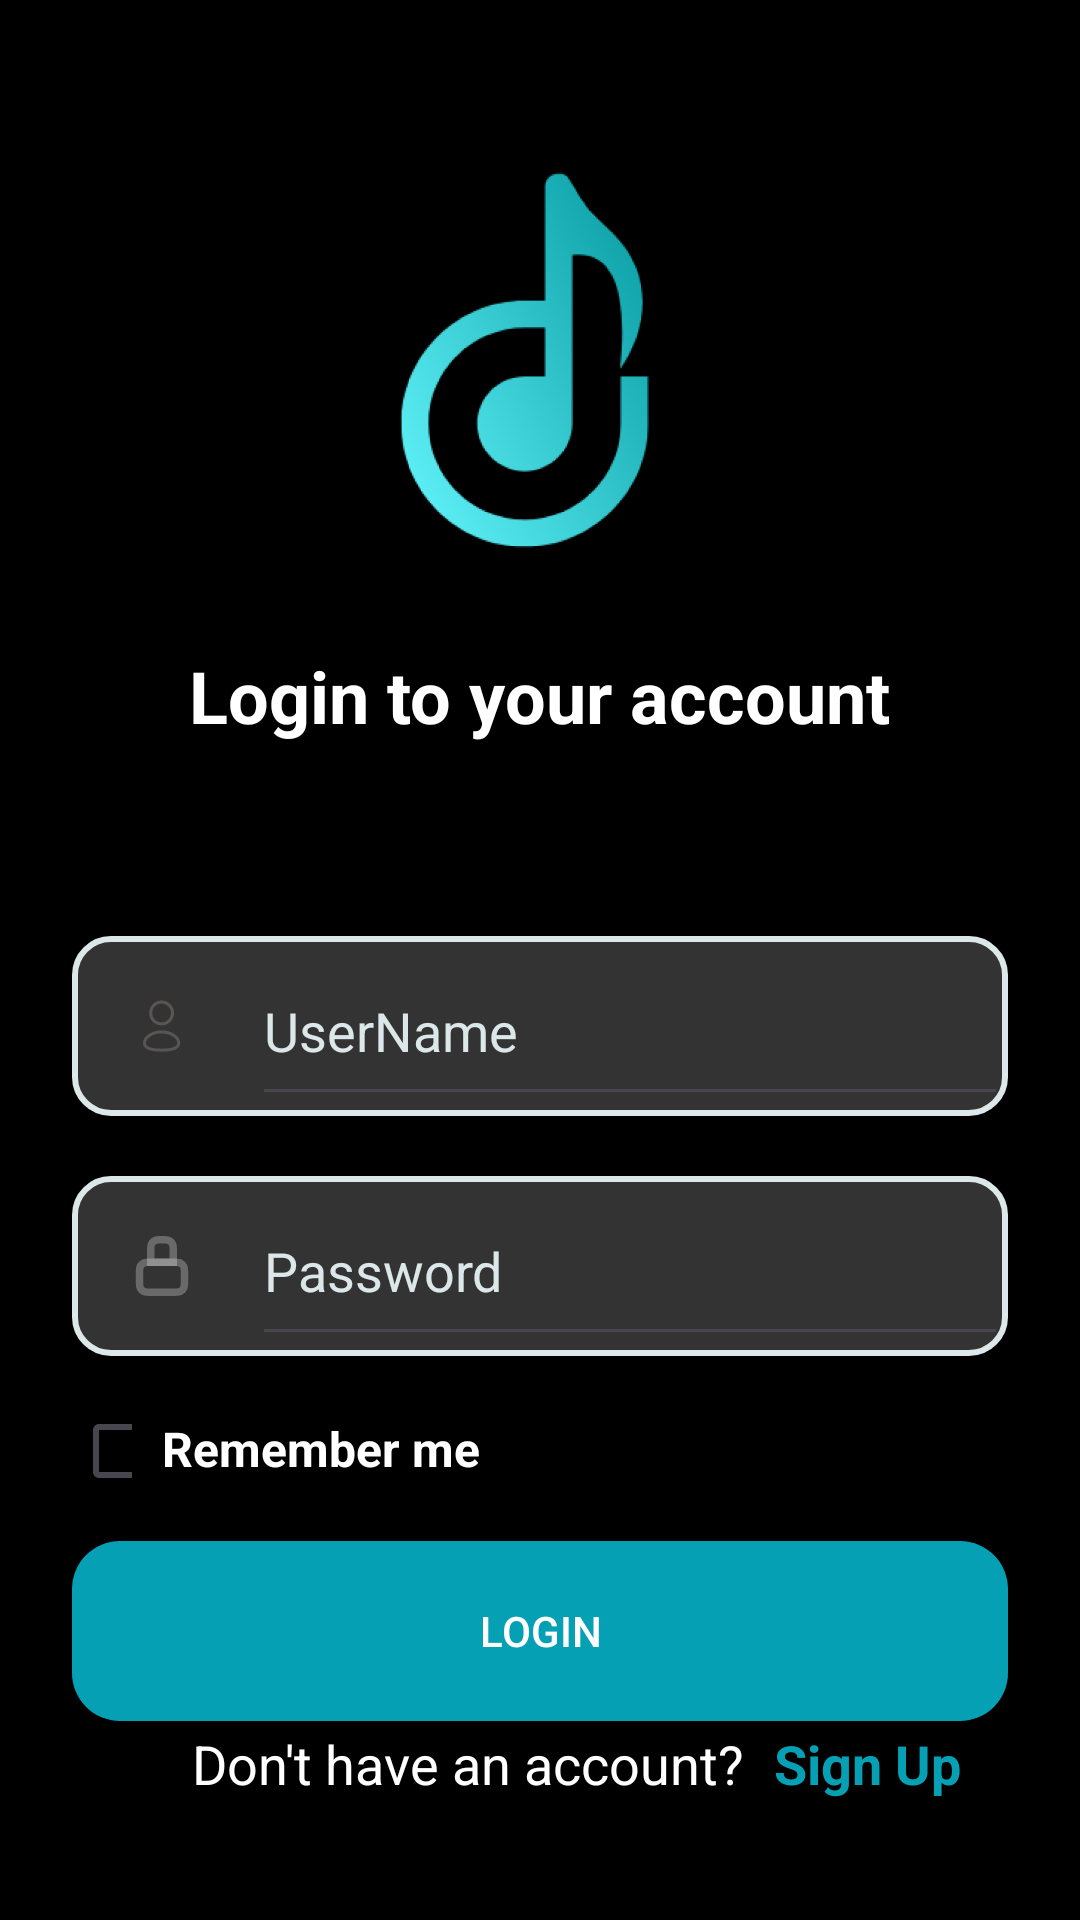

Icons on this 1080 × 1920 Android screen, each with the point to tap as (x=x, y=y):
lock: (x=162, y=1266)
